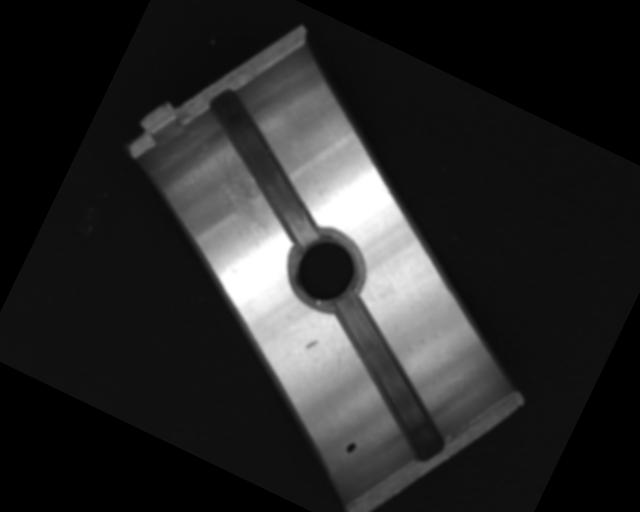blot: (344, 438, 358, 455)
bruise: (304, 335, 319, 352)
gap: (297, 292, 480, 461), (175, 83, 357, 248)
hole: (276, 219, 377, 321)
scratch: (193, 146, 297, 241)
